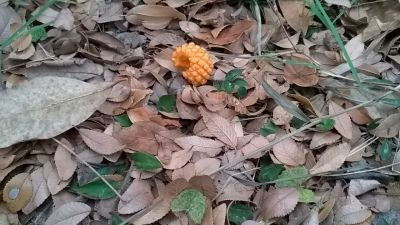eggs: (174, 42, 212, 85)
